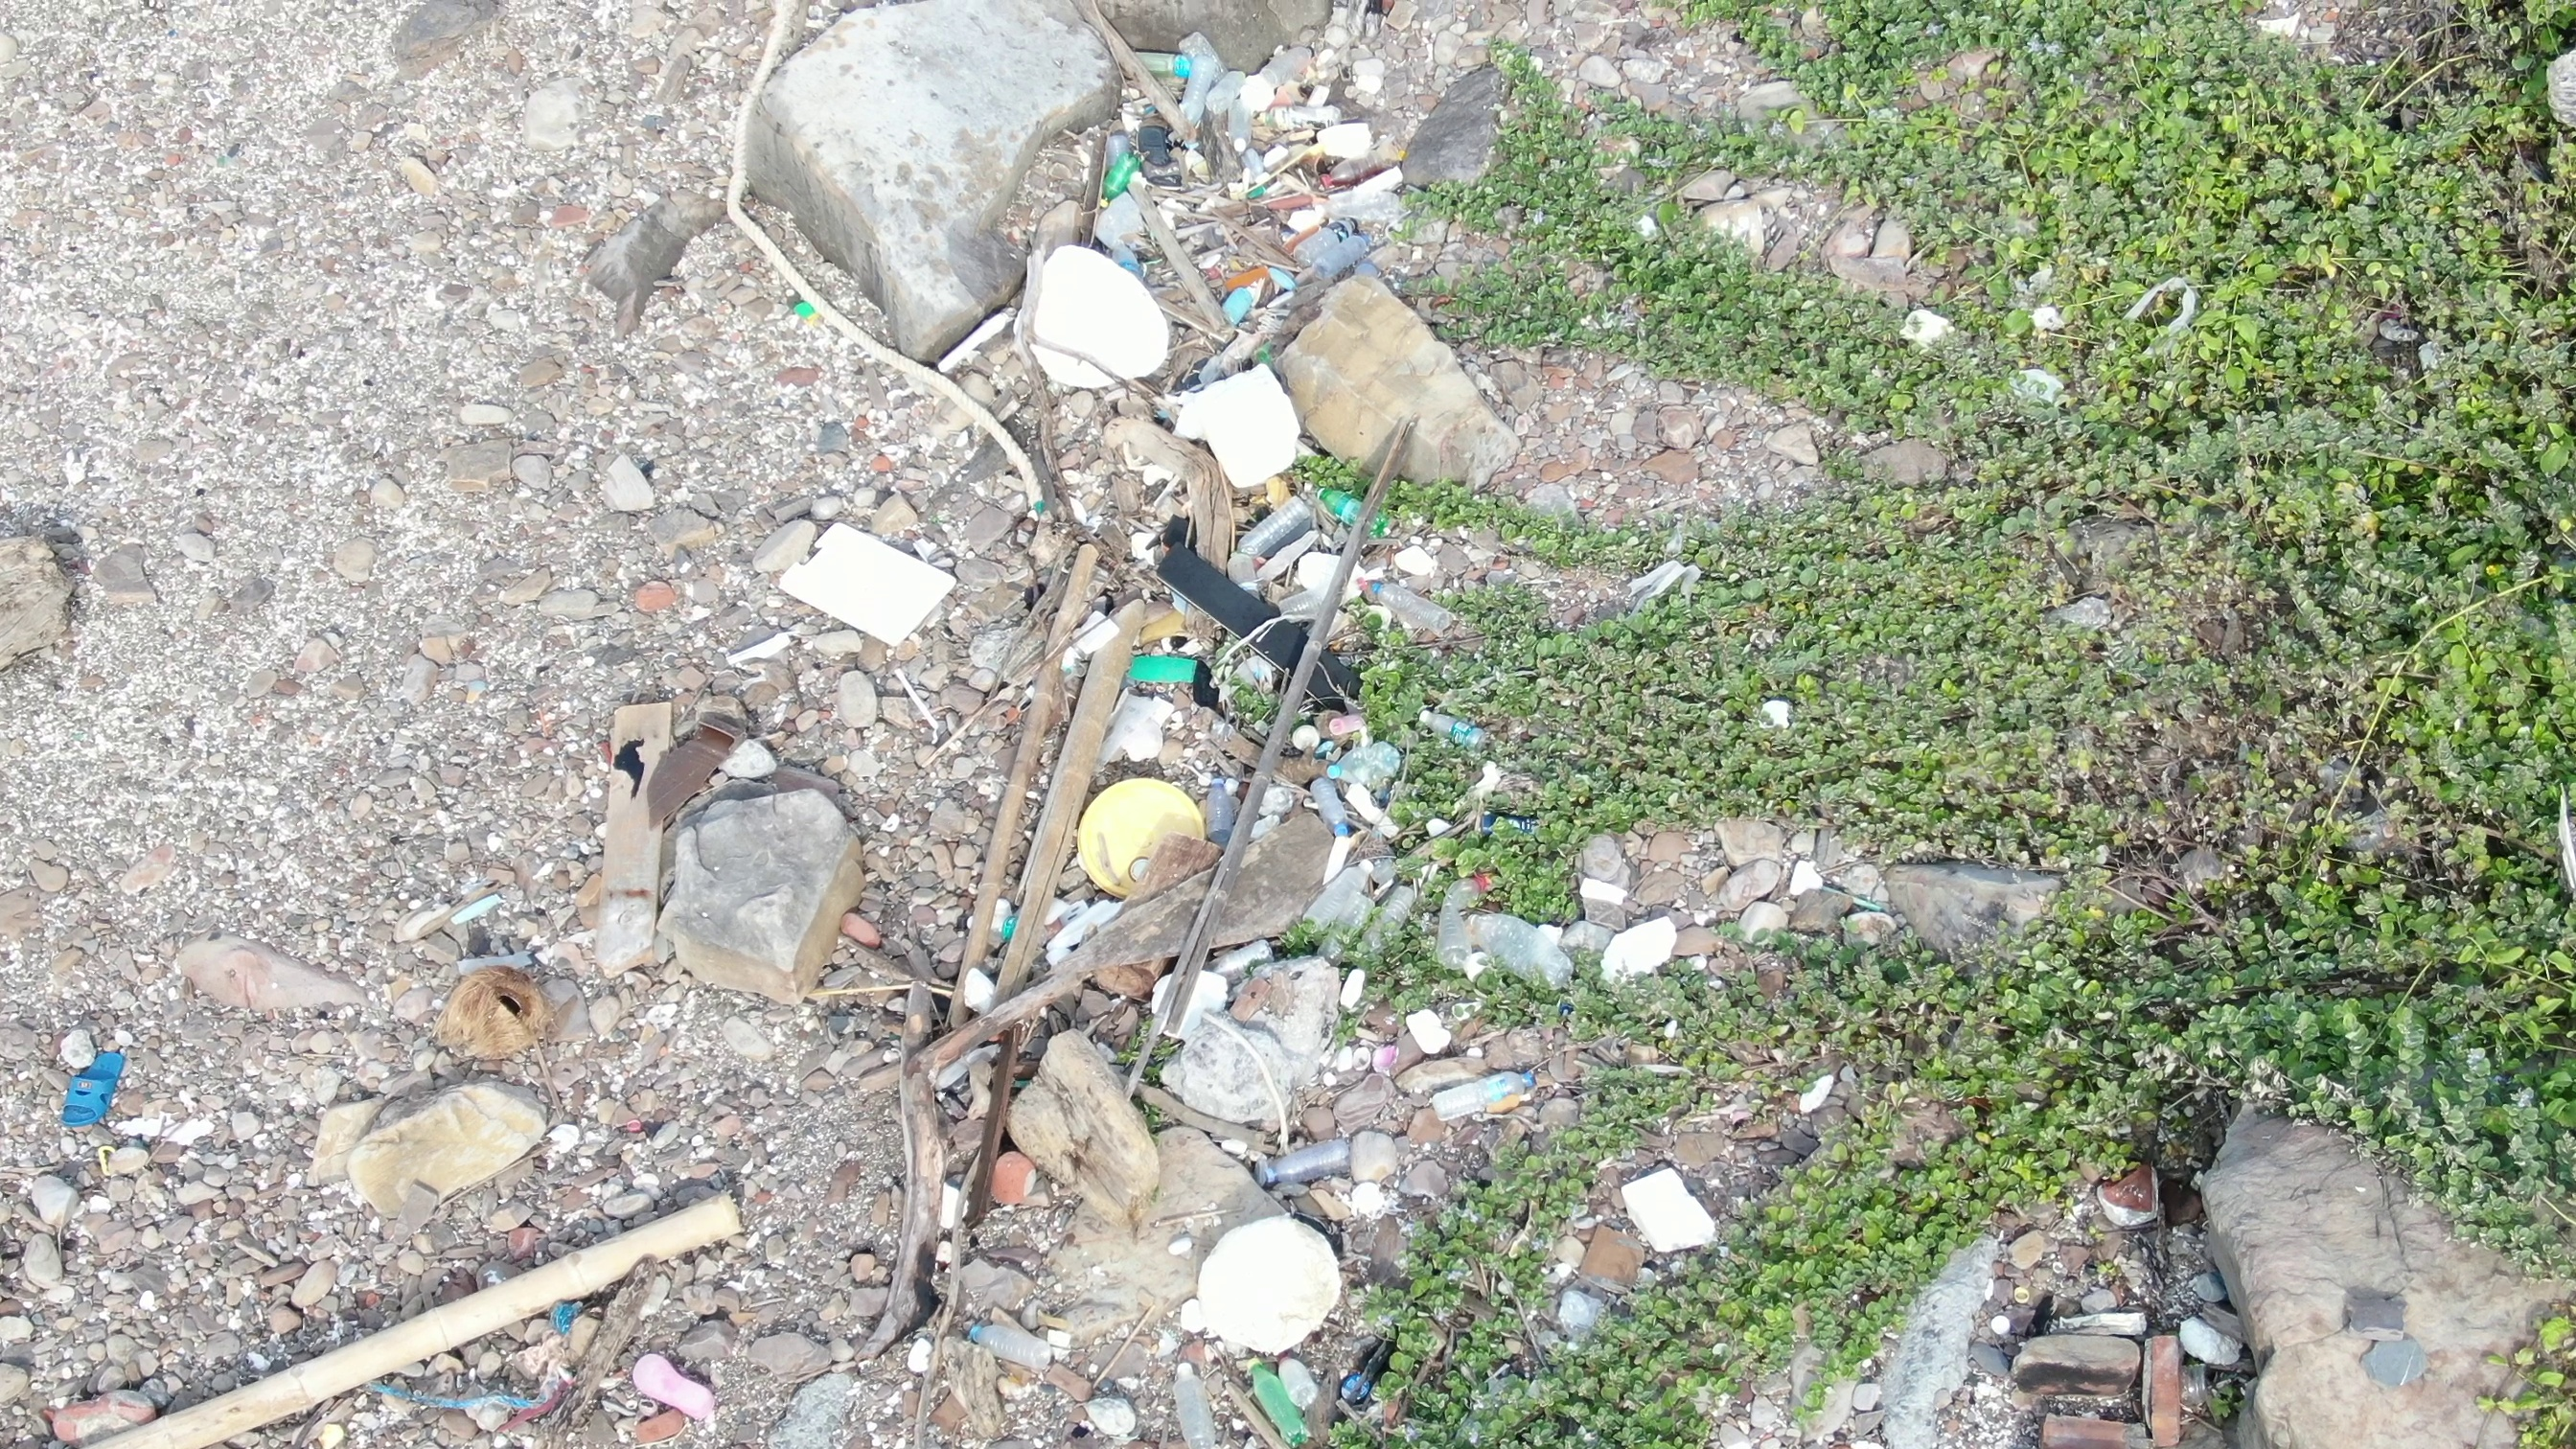bottle: (1465, 904, 1592, 1005), (1417, 1062, 1552, 1138), (1295, 840, 1380, 948), (1085, 133, 1159, 239), (1154, 1343, 1224, 1449), (952, 1315, 1062, 1382), (1433, 865, 1493, 985), (1235, 1341, 1302, 1447), (1364, 568, 1453, 635), (1284, 198, 1375, 264), (1302, 467, 1389, 533), (1226, 497, 1318, 556), (1247, 41, 1322, 110), (1207, 759, 1247, 869), (1407, 694, 1493, 745), (1302, 755, 1348, 846), (1214, 64, 1253, 165), (1125, 41, 1207, 83), (1323, 755, 1417, 787)
garbage: (890, 7, 1444, 1449), (694, 4, 1076, 547), (1410, 706, 1569, 1145), (349, 1286, 619, 1442), (589, 672, 786, 844), (761, 506, 982, 648), (50, 1047, 134, 1139)
